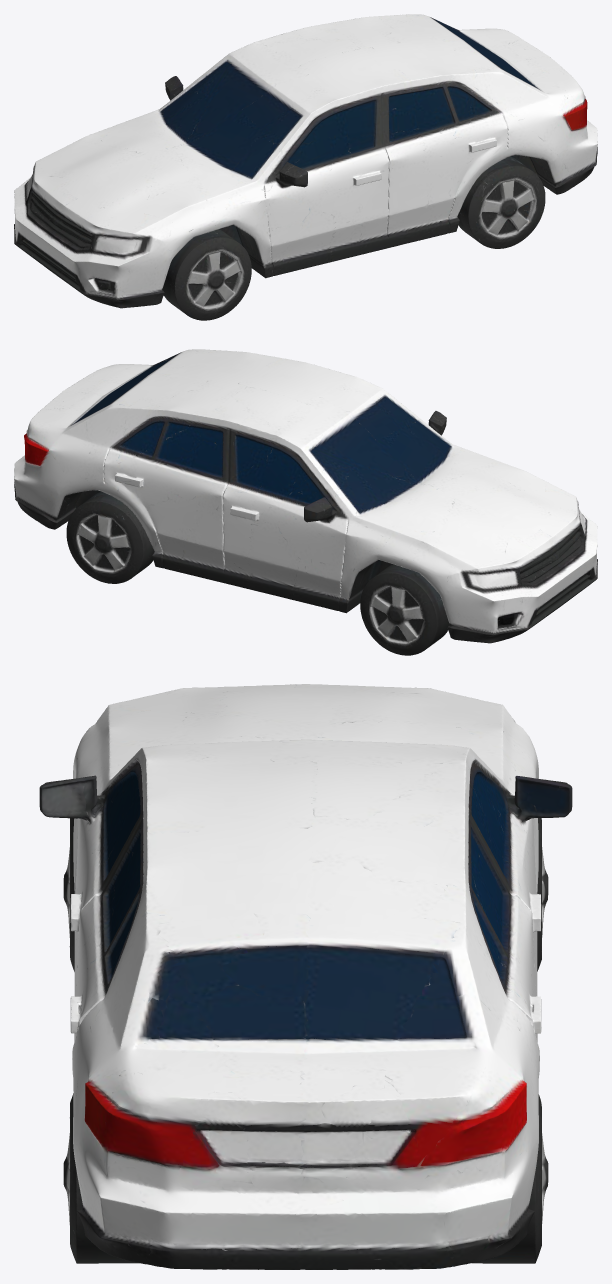
File: sedan.glb
3 views of the same model, one above another, from view 1: azimuth 30°, elevation 25°; view 2: azimuth 150°, elevation 25°; view 3: azimuth 270°, elevation 25° (orthographic). The views are drawn at different scales.
Bounding box in the file's own units: 1.9 × 0.6192 × 0.8428.
1 material, 1 textured.
